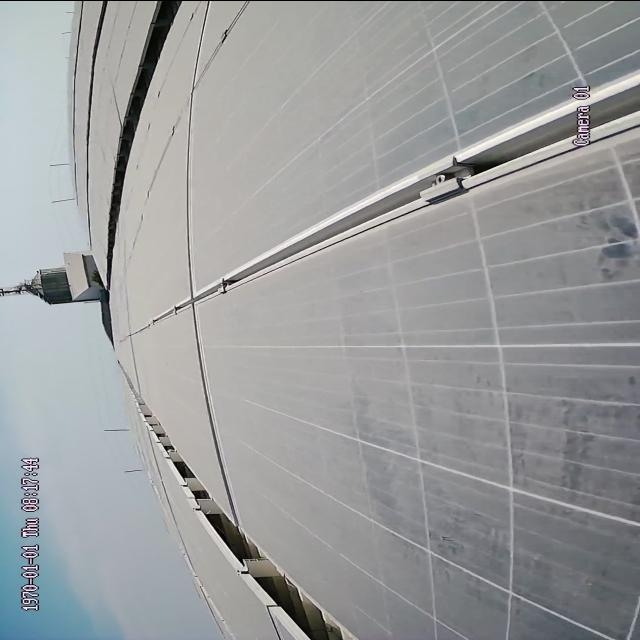interior panel: (133, 68, 621, 337), (178, 10, 235, 498)
outher panel: (137, 398, 355, 636), (105, 4, 188, 248)
